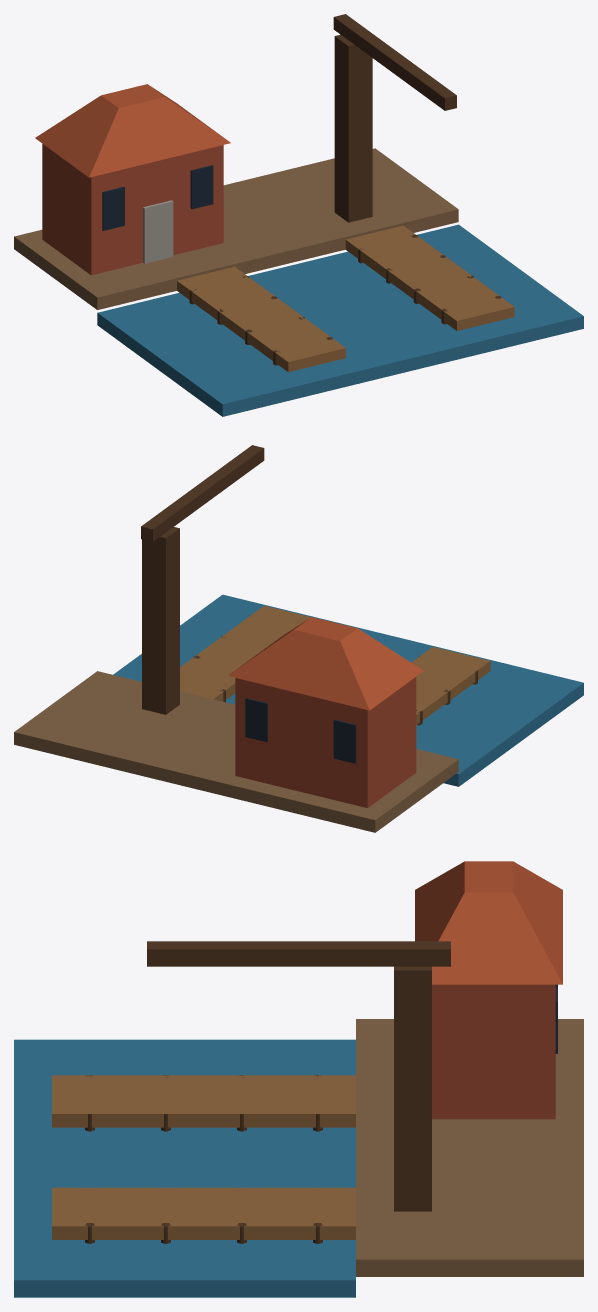
Rendered from bld_special_port_a04.glb.
3 views of the same model, one above another, from view 1: azimuth 30°, elevation 25°; view 2: azimuth 150°, elevation 25°; view 3: azimuth 270°, elevation 25° (orthographic). The views are drawn at different scales.
Visible parts, largest first — view 1: body, crane; view 2: body, crane; view 3: body, crane.
Part boxes in pixels (box(x1,y1,x2,y2)): body: box(14, 84, 583, 416); crane: box(333, 14, 456, 222); body: box(14, 594, 583, 832); crane: box(141, 445, 264, 714); body: box(14, 861, 583, 1297); crane: box(147, 941, 450, 1211).
Size of what is drawn, in the model's own units: 15 by 8.9 by 15.
